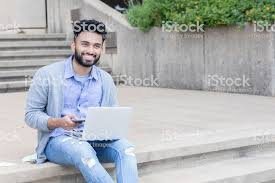Indian_Male: (68, 21, 103, 67)
